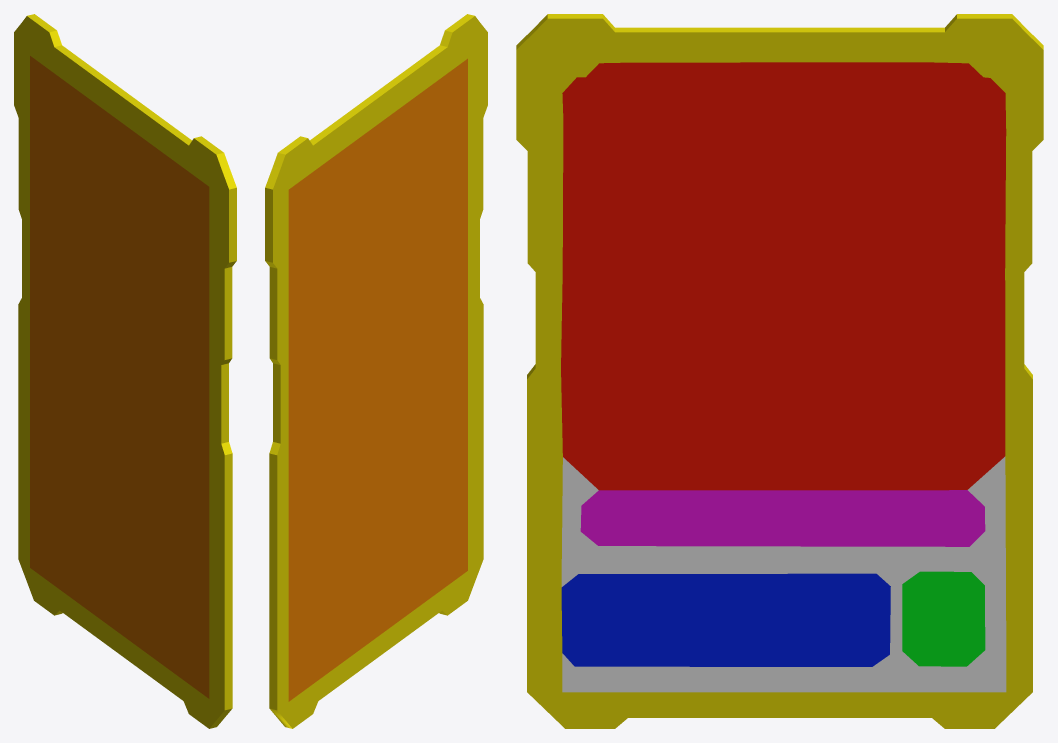
The model's file is MainCard_newUV.fbx.
3 views of the same model, side by side, from view 1: azimuth 30°, elevation 25°; view 2: azimuth 150°, elevation 25°; view 3: azimuth 270°, elevation 25° (orthographic). The views are drawn at different scales.
Visible parts, largest first — view 1: Plane; view 2: Plane; view 3: Plane.
Boxes of the visible parts, bbox=[...] form: Plane: bbox=[14, 14, 236, 728]; Plane: bbox=[265, 14, 487, 728]; Plane: bbox=[516, 14, 1043, 728].
Bounding box in the file's own units: 7.02 × 499 × 336.
